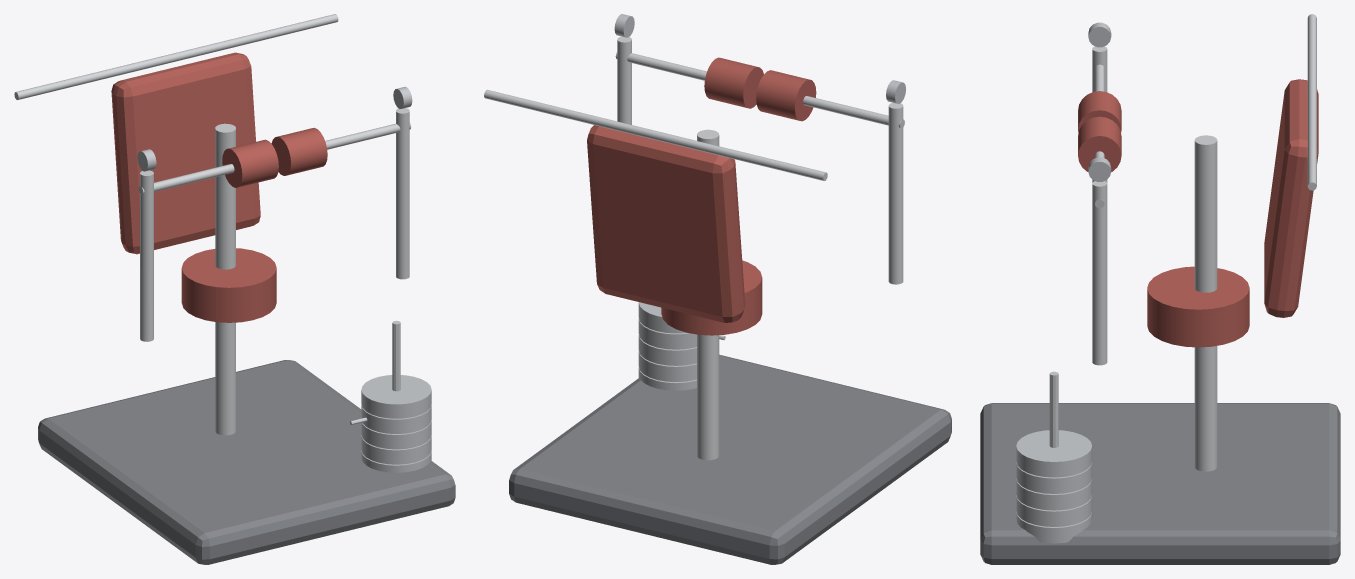
Rendered from fly_machine.glb.
The picture shows the model from 3 angles, left to right: view 1: azimuth 30°, elevation 25°; view 2: azimuth 150°, elevation 25°; view 3: azimuth 270°, elevation 25°; orthographic projection. The views are drawn at different scales.
Visible parts, largest first — view 1: fm_body, fm_seatpad, fm_arms, fm_weights; view 2: fm_body, fm_seatpad, fm_arms, fm_weights; view 3: fm_body, fm_seatpad, fm_weights, fm_arms.
Boxes of the visible parts, x1,y1,x2,y2 form: fm_body: (14,14,455,564); fm_seatpad: (111,52,276,322); fm_arms: (137,86,412,341); fm_weights: (350,320,431,472); fm_body: (484,89,951,564); fm_seatpad: (587,125,762,335); fm_arms: (614,14,905,284); fm_weights: (638,302,725,390); fm_body: (980,14,1340,564); fm_seatpad: (1147,79,1318,347); fm_weights: (1016,371,1092,543); fm_arms: (1078,22,1121,365).
Bounding box in the file's own units: 1.05 × 1.19 × 0.95.
